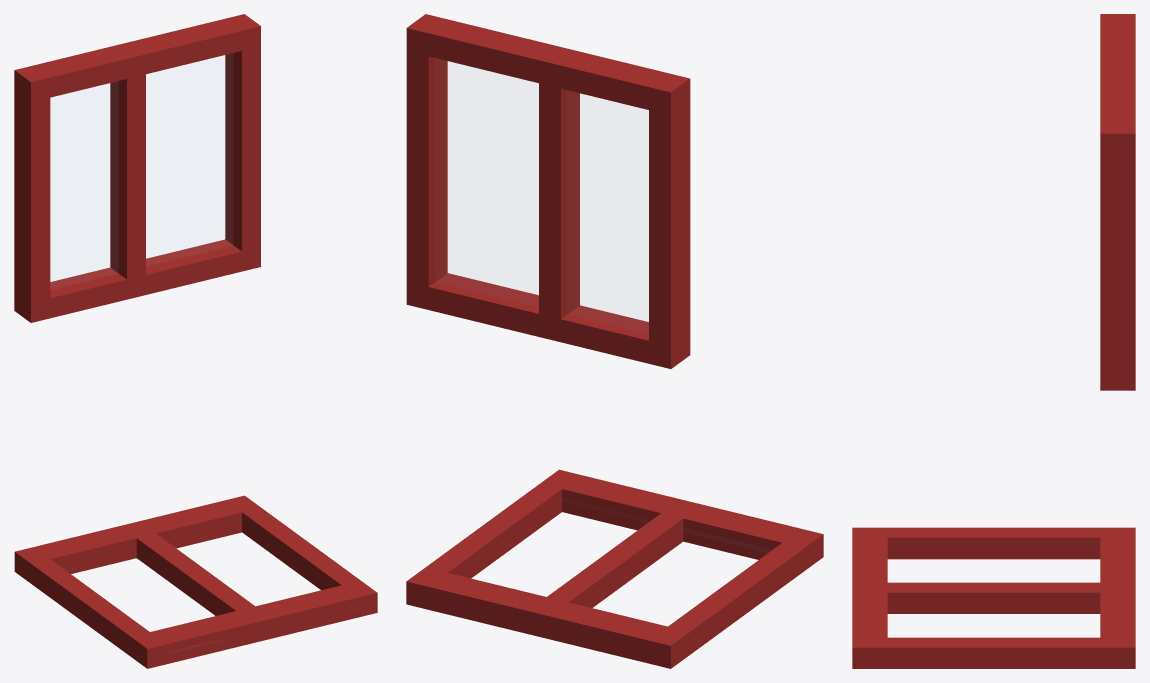
File: windows_lib.glb
3 views of the same model, side by side, from view 1: azimuth 30°, elevation 25°; view 2: azimuth 150°, elevation 25°; view 3: azimuth 270°, elevation 25° (orthographic). The views are drawn at different scales.
Parts seen in each view (by area): view 1: window_wood_7_LAYER_wood, window_wood_5_LAYER_wood, window_wood_1_LAYER_wood, window_wood_2_LAYER_wood, window_wood_4_LAYER_wood, window_wood_3_LAYER_wood; view 2: window_wood_7_LAYER_wood, window_wood_1_LAYER_wood, window_wood_5_LAYER_wood, window_wood_2_LAYER_wood, window_wood_4_LAYER_wood, window_wood_3_LAYER_wood; view 3: window_wood_7_LAYER_wood, window_wood_2_LAYER_wood, window_wood_3_LAYER_wood, window_wood_4_LAYER_wood, window_wood_1_LAYER_wood, window_wood_5_LAYER_wood.
Part boxes in pixels (x1,y1,x2,y2): window_wood_7_LAYER_wood: (14,14,260,322); window_wood_5_LAYER_wood: (131,580,377,668); window_wood_1_LAYER_wood: (14,495,260,583); window_wood_2_LAYER_wood: (31,559,149,656); window_wood_4_LAYER_wood: (136,533,254,615); window_wood_3_LAYER_wood: (242,507,360,590); window_wood_7_LAYER_wood: (406,14,690,368); window_wood_1_LAYER_wood: (406,567,689,668); window_wood_5_LAYER_wood: (540,469,823,570); window_wood_2_LAYER_wood: (668,543,804,654); window_wood_4_LAYER_wood: (547,513,683,607); window_wood_3_LAYER_wood: (426,483,561,578); window_wood_7_LAYER_wood: (1100,14,1135,390); window_wood_2_LAYER_wood: (887,527,1100,559); window_wood_3_LAYER_wood: (887,637,1100,668); window_wood_4_LAYER_wood: (887,582,1100,613); window_wood_1_LAYER_wood: (1100,527,1135,668); window_wood_5_LAYER_wood: (852,527,887,668).
Size of the model in its own units: 1.2 by 2.5 by 1.2.
